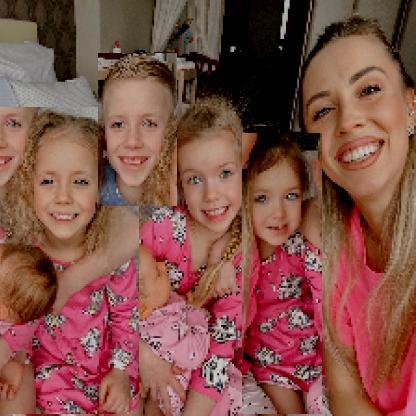child: (1, 108, 141, 416), (81, 244, 263, 415), (243, 134, 324, 416), (170, 97, 261, 296), (100, 54, 180, 208)
